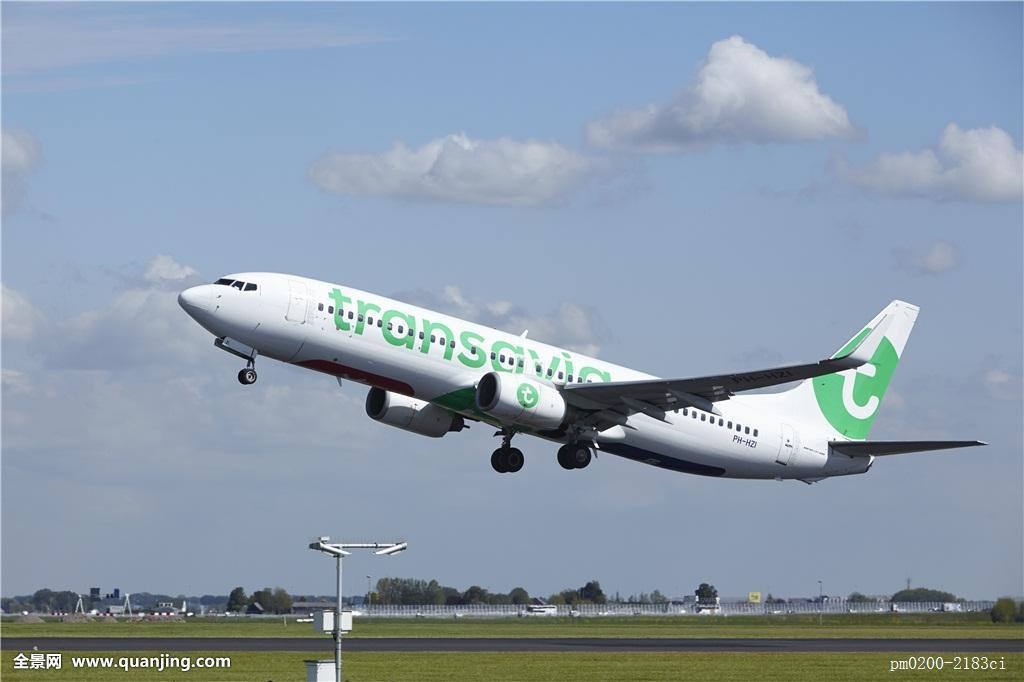airplane: (167, 263, 997, 486)
